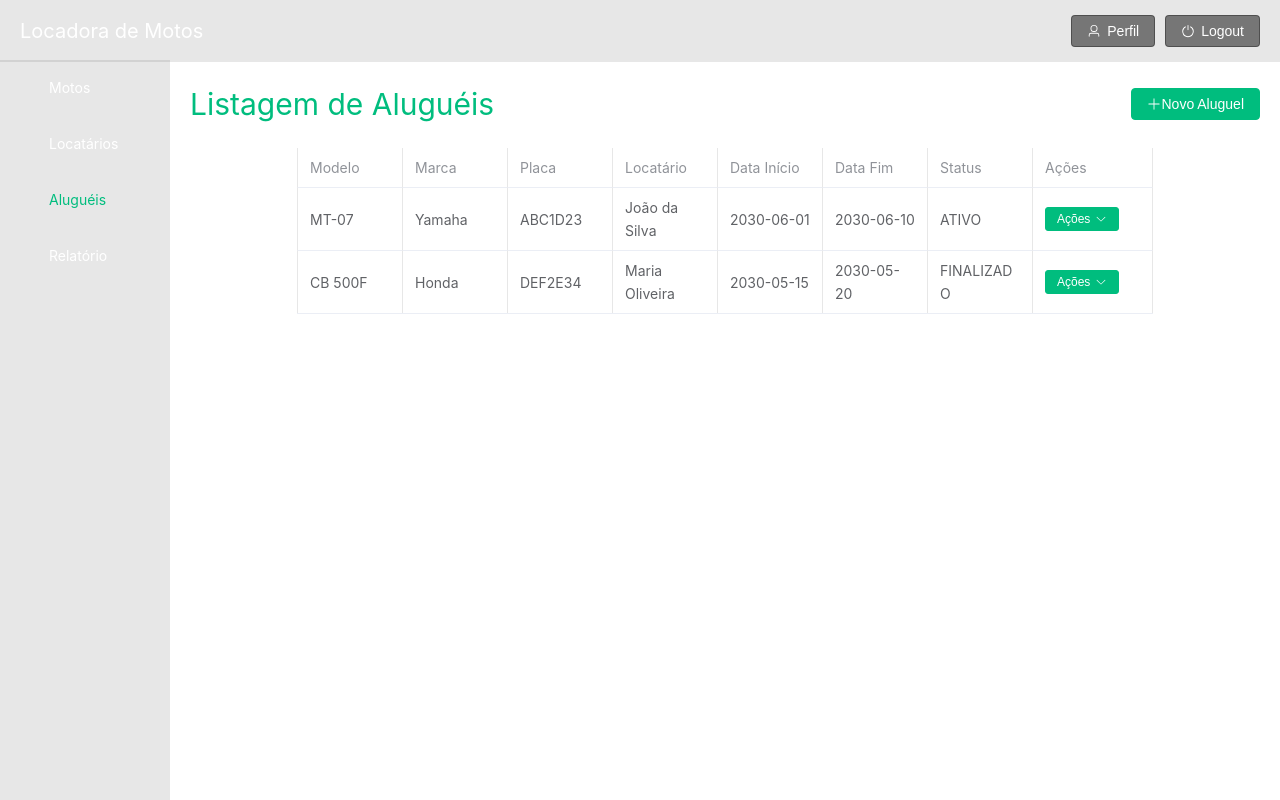
Test: Tela de Listagem de Aluguéis › deve finalizar um aluguel
Click the button "Ações" in the row of "MT-07". click: (1082,219)
box: [1045, 207, 1119, 231]
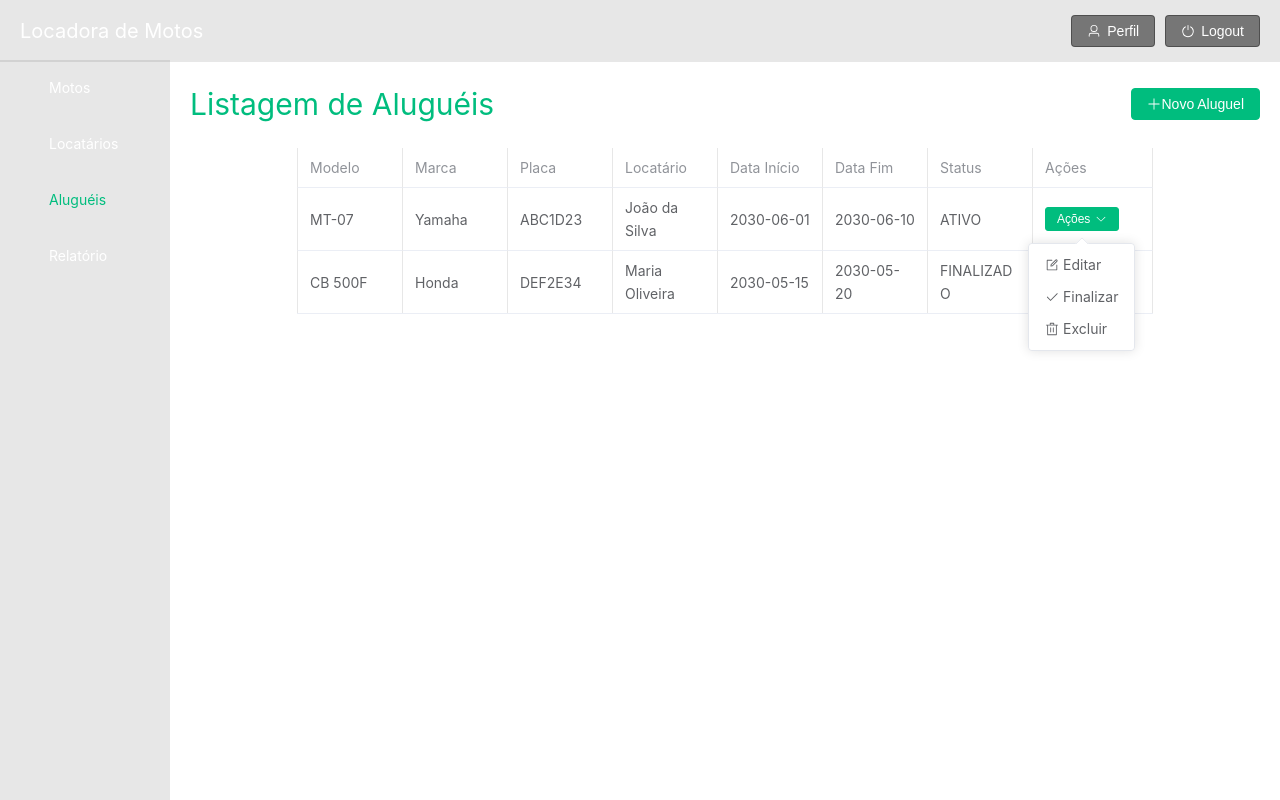
Click the menu item "Finalizar". click: (1082,297)
box: [1045, 288, 1118, 305]
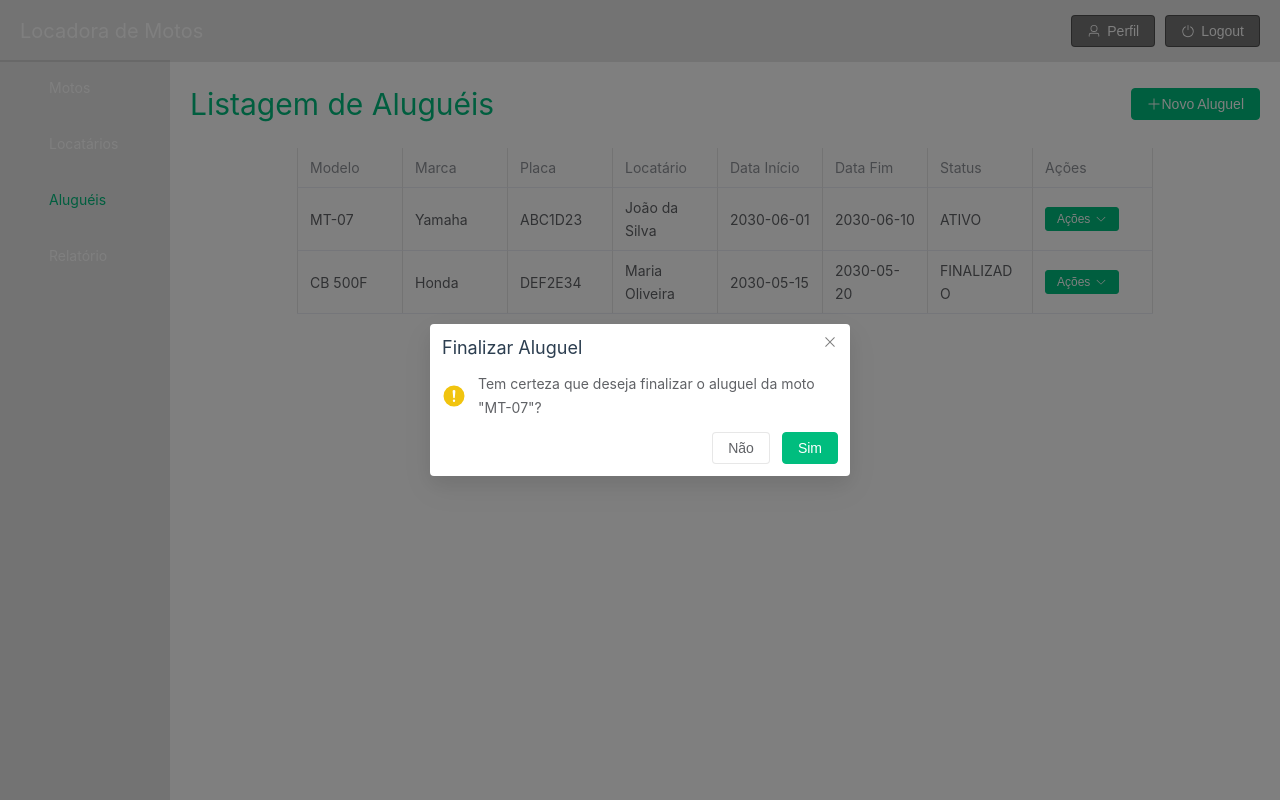
Click the button "Sim". click: (810,448)
box: [782, 432, 838, 464]
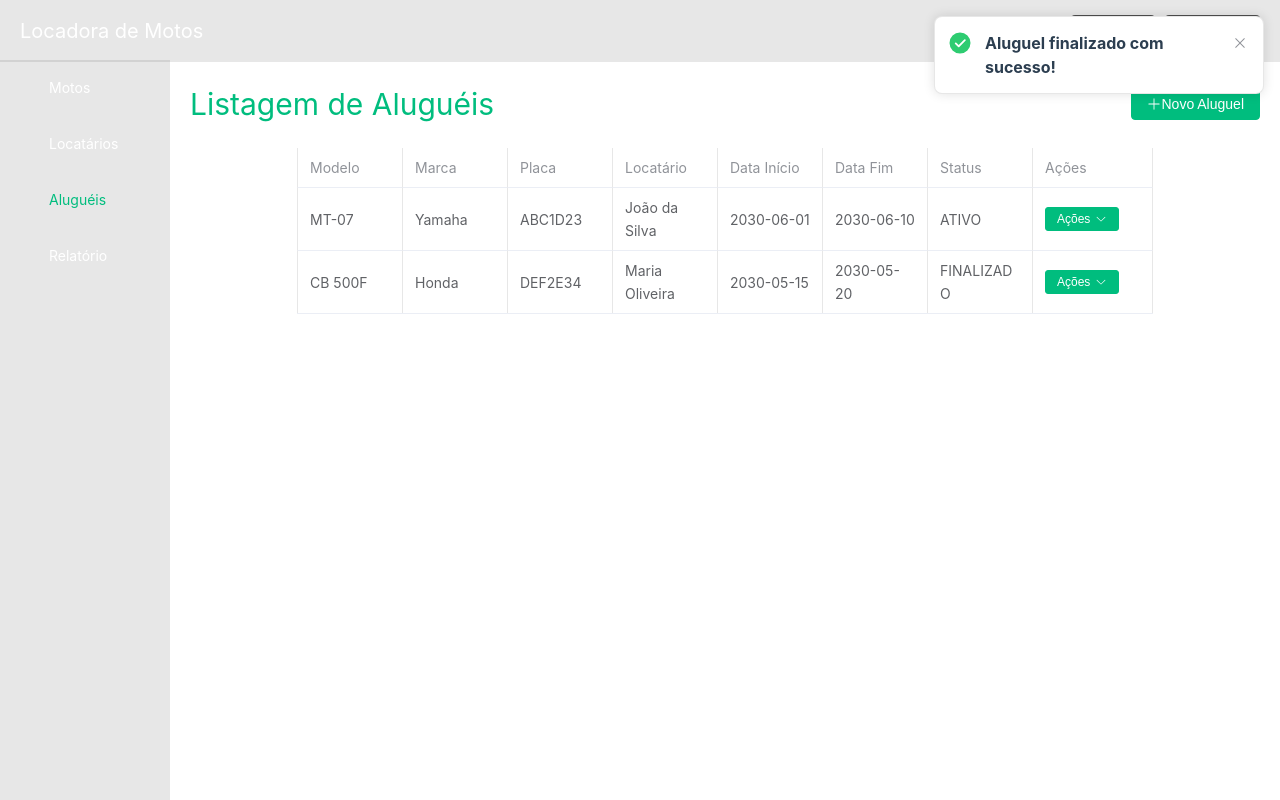
Result: the heading "Aluguel finalizado com sucesso!" is shown at [985, 33, 1164, 77]
